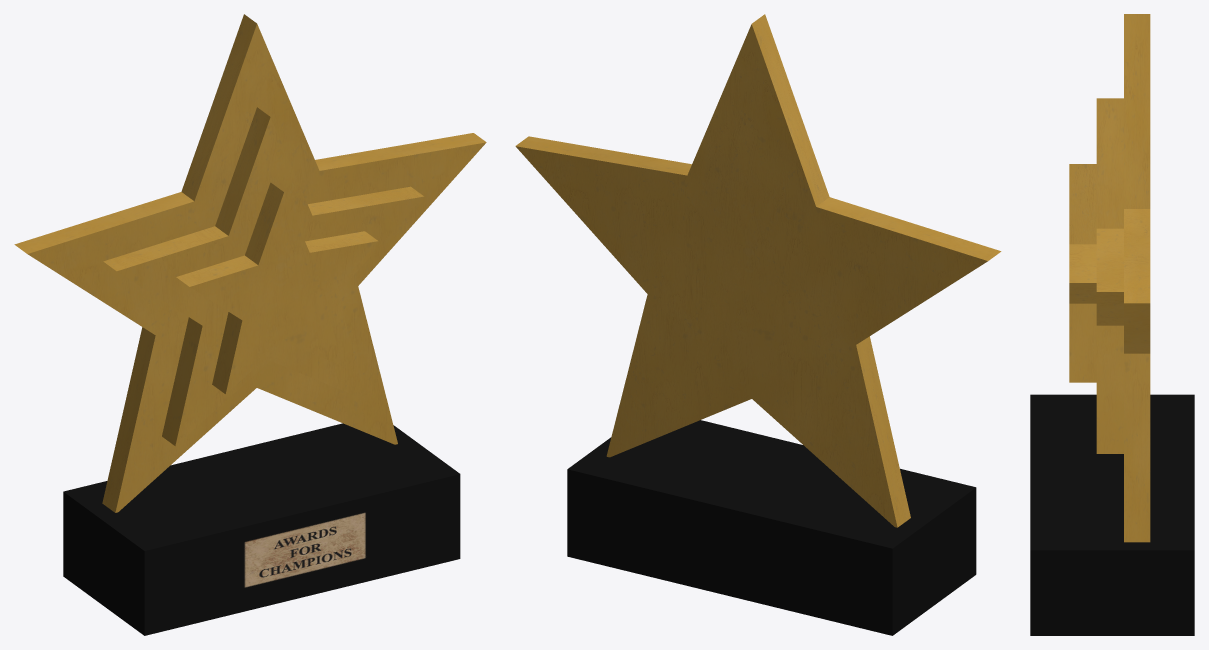
Rendered from Trophy 1.FBX.
3 views of the same model, side by side, from view 1: azimuth 30°, elevation 25°; view 2: azimuth 150°, elevation 25°; view 3: azimuth 270°, elevation 25° (orthographic). The views are drawn at different scales.
Visible parts, largest first — view 1: trophy 1; view 2: trophy 1; view 3: trophy 1.
Part boxes in pixels (x1,y1,x2,y2): trophy 1: [14, 14, 486, 635]; trophy 1: [515, 14, 1001, 635]; trophy 1: [1030, 14, 1194, 635].
Size of the model in its own units: 19.88 by 22.32 by 6.1.
Materials: 2 (2 with a texture image).
